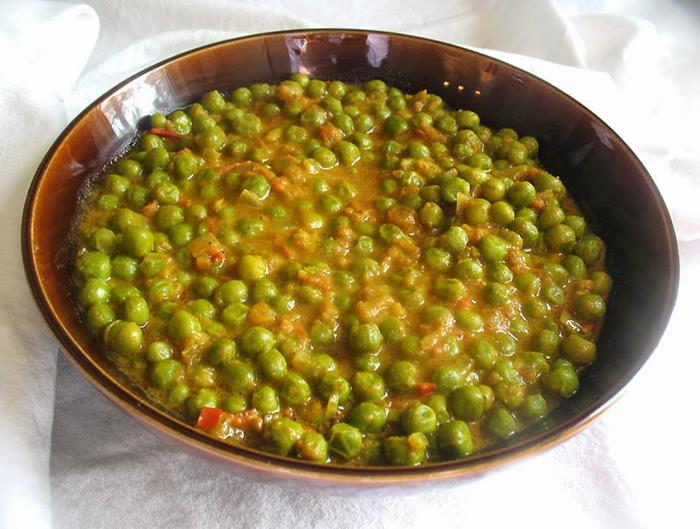boiled peas: (193, 109, 539, 364)
